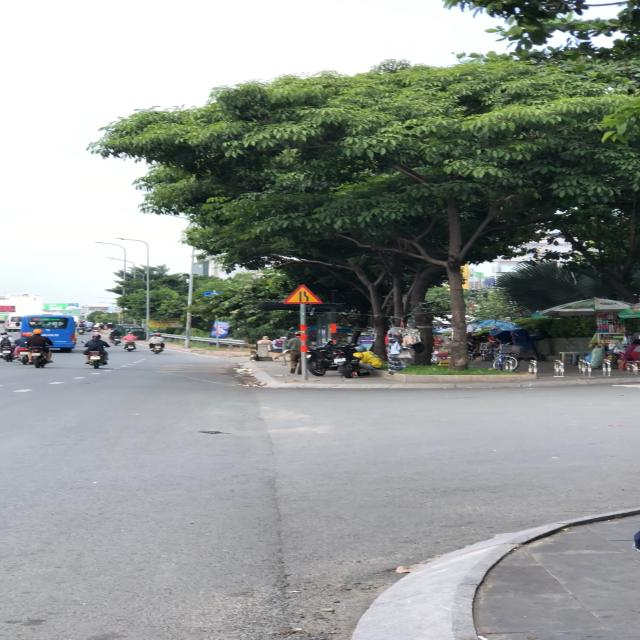Bien bao duong bi thu hep: (282, 284, 325, 304)
